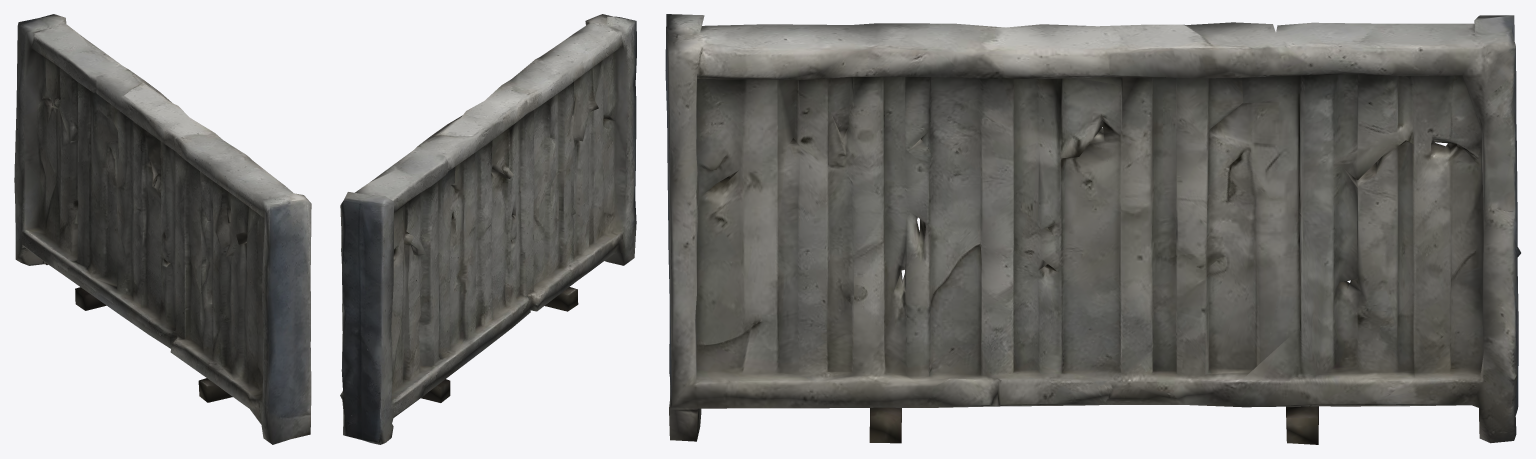
Rendered from qr_concfence.glb.
3 views of the same model, side by side, from view 1: azimuth 30°, elevation 25°; view 2: azimuth 150°, elevation 25°; view 3: azimuth 270°, elevation 25° (orthographic). The views are drawn at different scales.
Parts seen in each view (by area): view 1: tripo_node_cbca6e49-3179-44db-8e86-e992758b581e; view 2: tripo_node_cbca6e49-3179-44db-8e86-e992758b581e; view 3: tripo_node_cbca6e49-3179-44db-8e86-e992758b581e.
Part boxes in pixels (bbox=[...]): tripo_node_cbca6e49-3179-44db-8e86-e992758b581e: bbox=[14, 14, 311, 444]; tripo_node_cbca6e49-3179-44db-8e86-e992758b581e: bbox=[340, 14, 636, 444]; tripo_node_cbca6e49-3179-44db-8e86-e992758b581e: bbox=[665, 14, 1520, 444].
Size of the model in its own units: 0.103 by 0.5213 by 1.
Materials: 1 (1 with a texture image).
